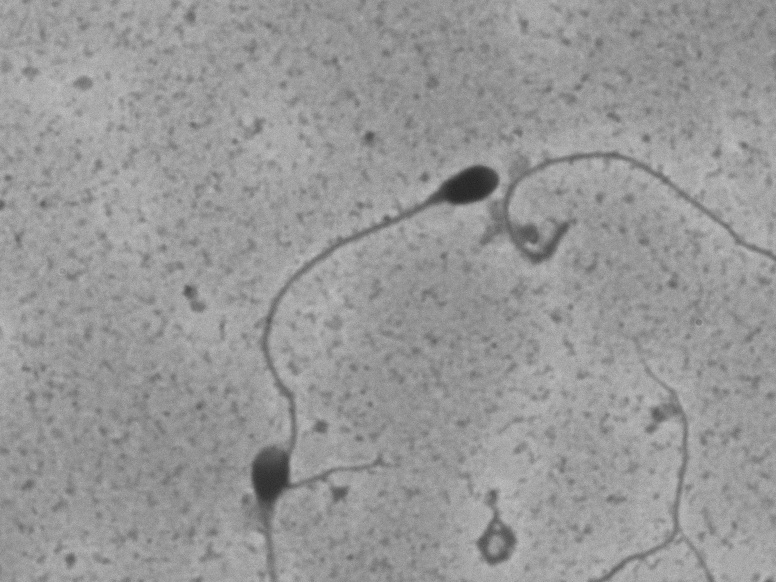Abnormal: (223, 440, 307, 565)
Normal: (247, 150, 516, 493)
